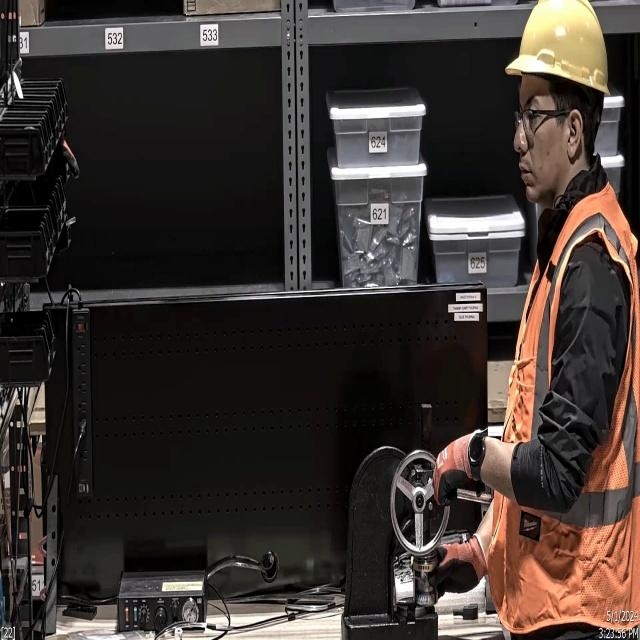construction-gloves: (416, 532, 488, 600), (430, 432, 478, 506)
